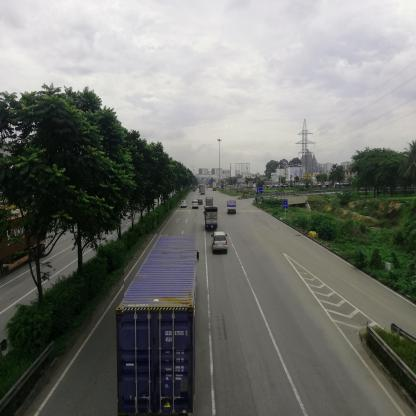car: (213, 233, 229, 256), (193, 202, 199, 208), (182, 202, 187, 209)
container: (125, 235, 196, 414)
truck: (204, 207, 219, 229), (228, 200, 237, 215), (206, 198, 214, 207)
